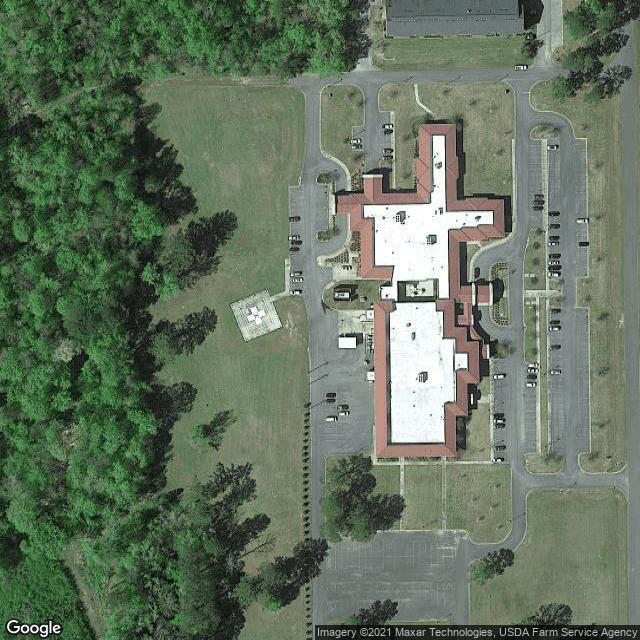Helipad: (228, 289, 285, 341)
